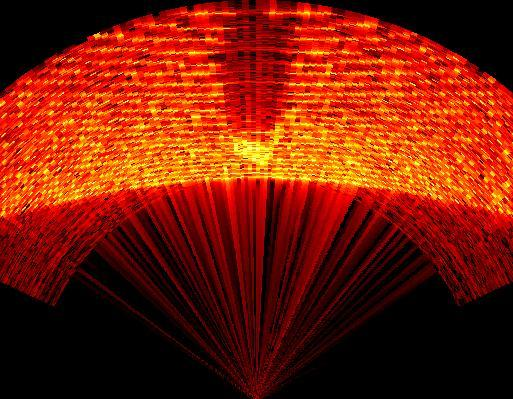box_crate: (214, 5, 304, 167)
